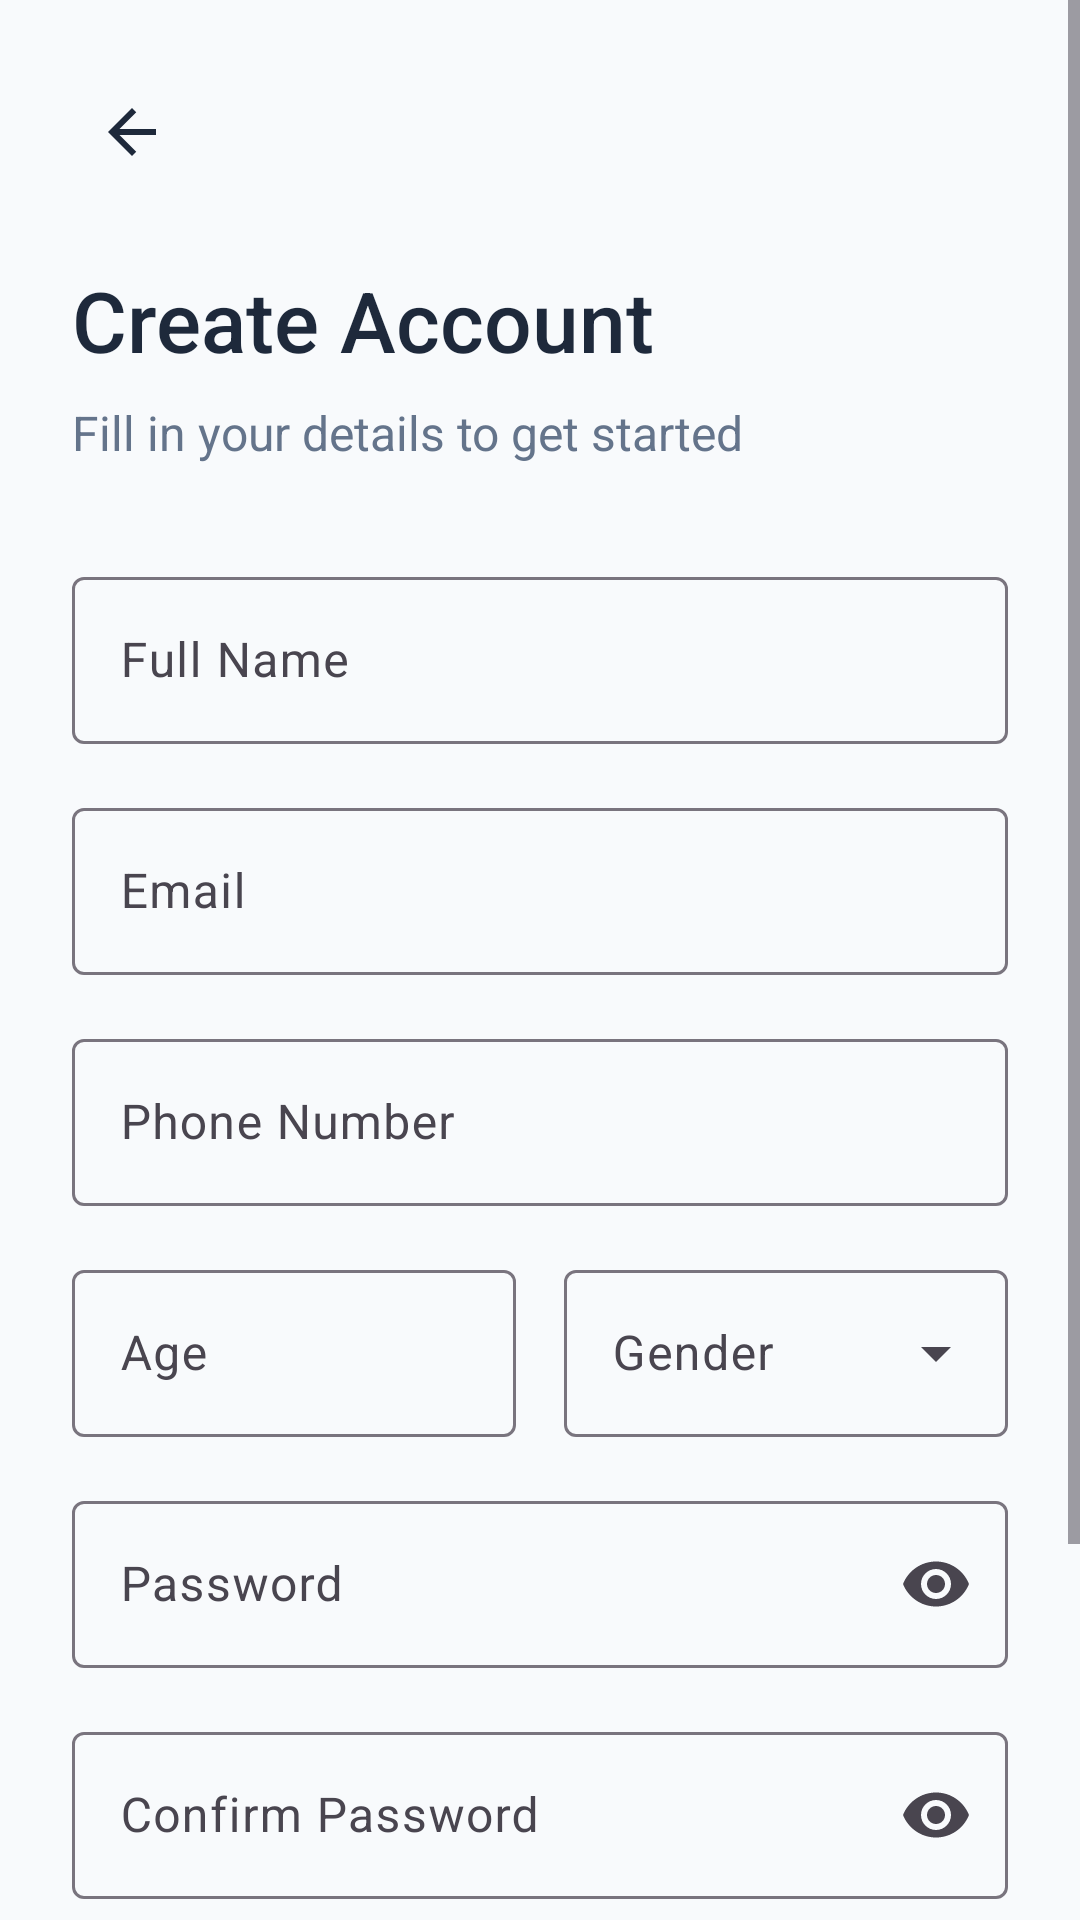

Icon bounding boxes for this 1080px×1920px phone screenshot, format (x1, y1, x2, y2):
Back: (108, 108, 156, 156)
